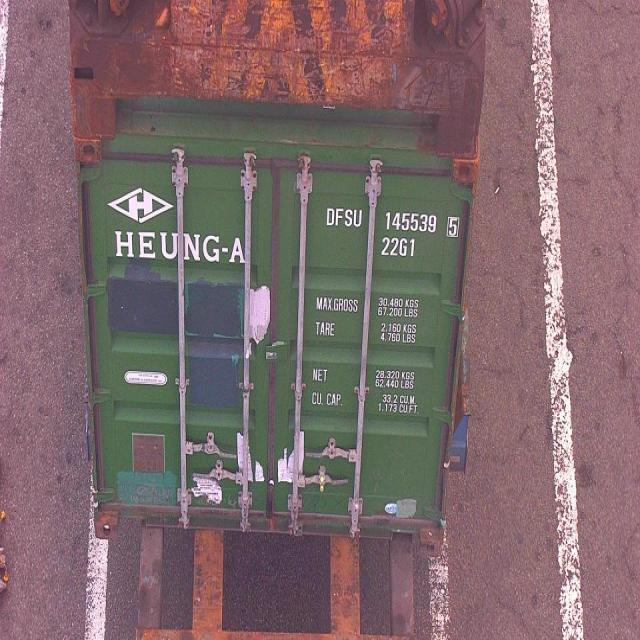ISO: (380, 236, 420, 256)
container_number: (326, 200, 458, 238)
